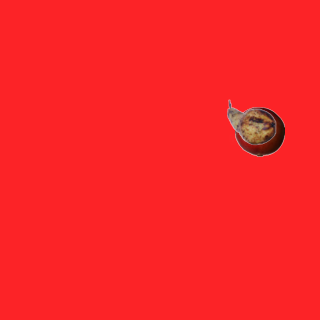Apple Braeburn: (234, 106, 284, 156)
Pear Abate: (226, 97, 276, 147)
